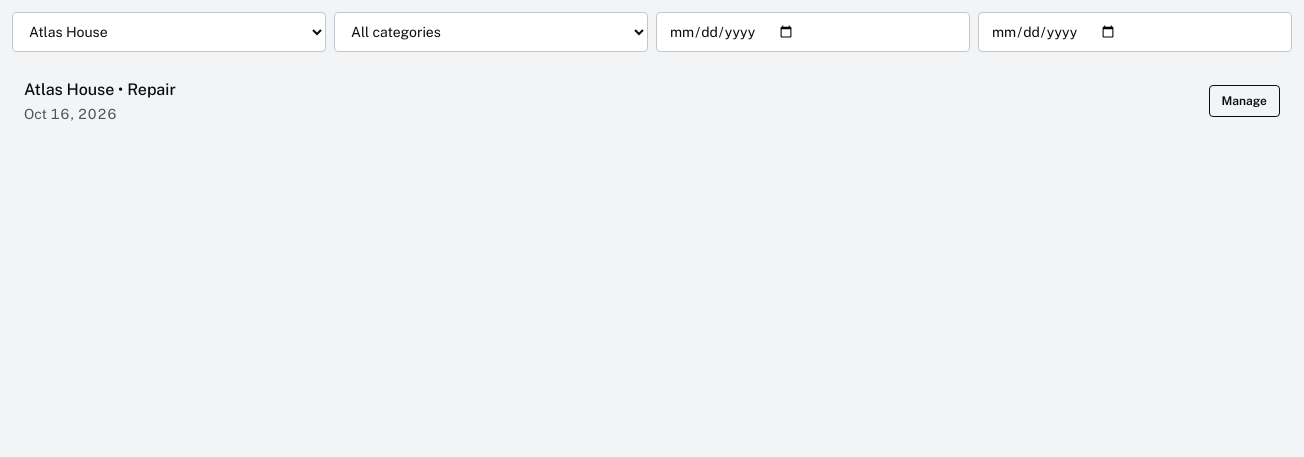
Sprint 252a accessible controls › names expense filters, dates, and edit controls
The image size is (1304, 457).
Expected: the dropdown named "Filter by property" is shown, [12, 12, 326, 52]
Expected: the dropdown named "Filter by category" is shown, [334, 12, 648, 52]
Click the button "Manage": (1244, 101) [1208, 85, 1280, 117]
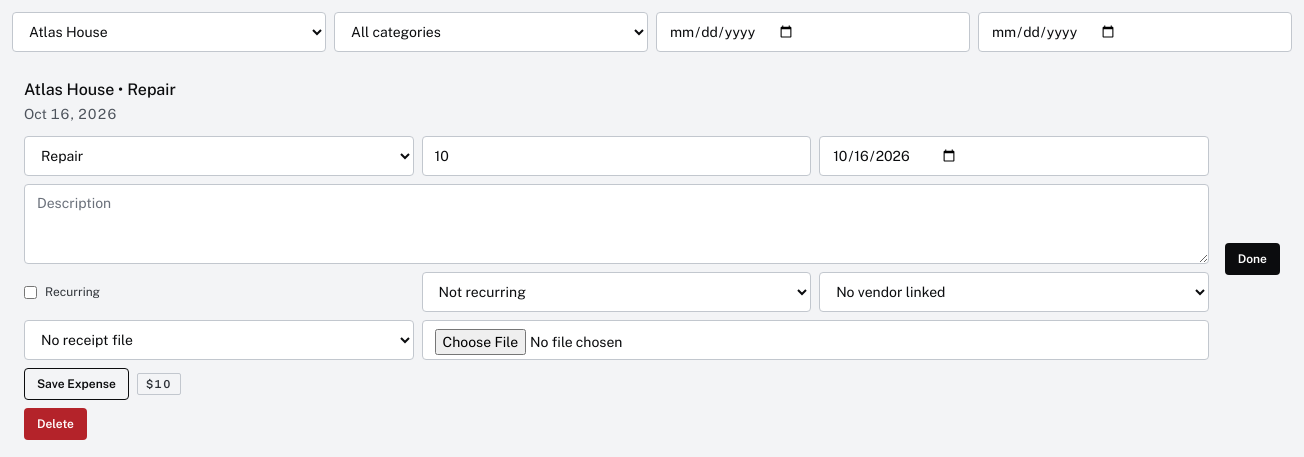
Now the dropdown named "Expense category" is shown, box [24, 136, 414, 176]
Now the dropdown named "Recurring frequency" is shown, box [422, 272, 811, 312]
Now the dropdown named "Vendor" is shown, box [819, 272, 1209, 312]
